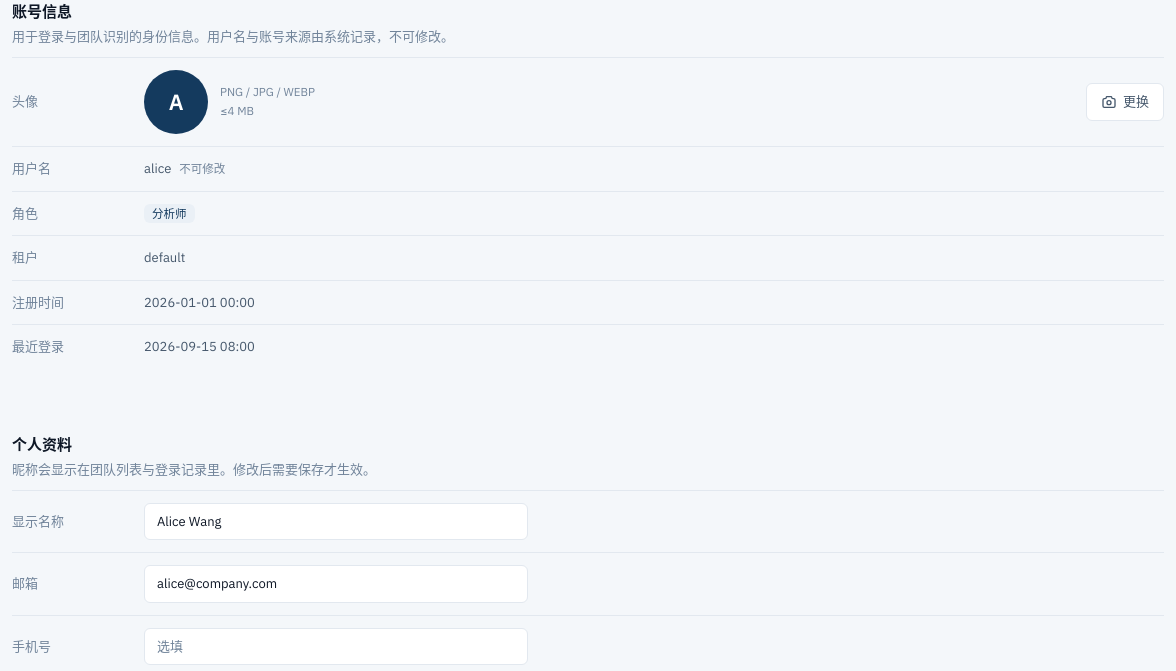
Test case: AccountPanel › 有未保存修改时显示保存与撤销按钮
Replace the text in the field showing "Alice Wang" next to "显示名称" with "Alice Updated" at point(336, 522), box [144,503,528,540]
(page scrolled)
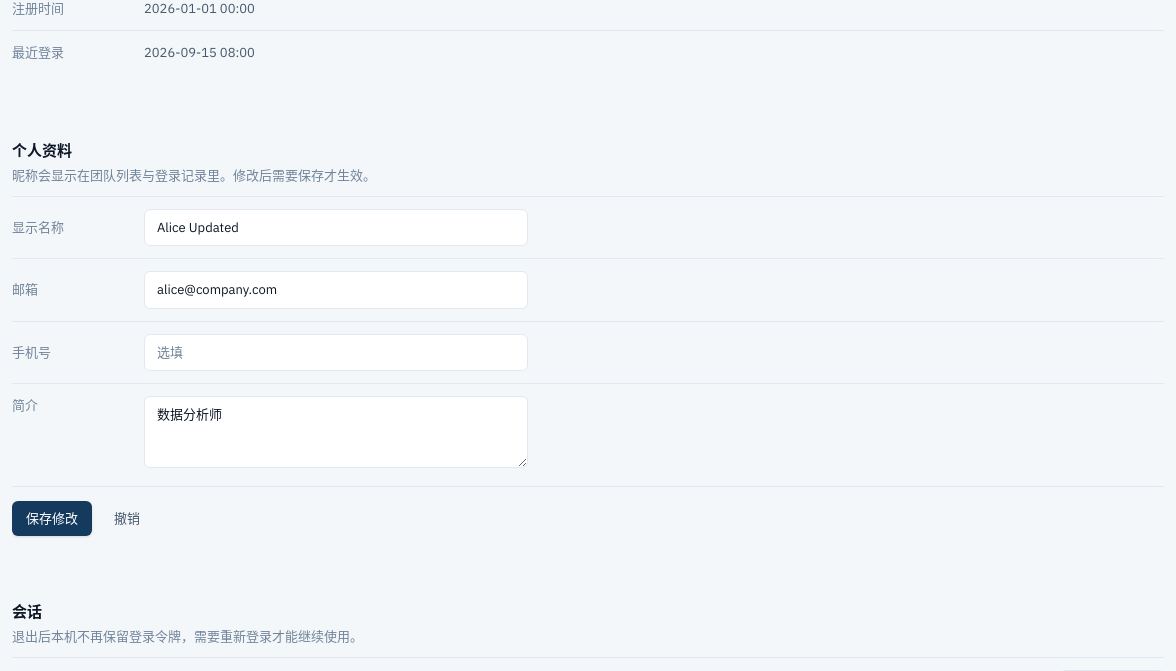
Expected: the button "保存修改" is shown, [12,501,92,536]
Expected: the button "撤销" is shown, [100,501,154,536]
